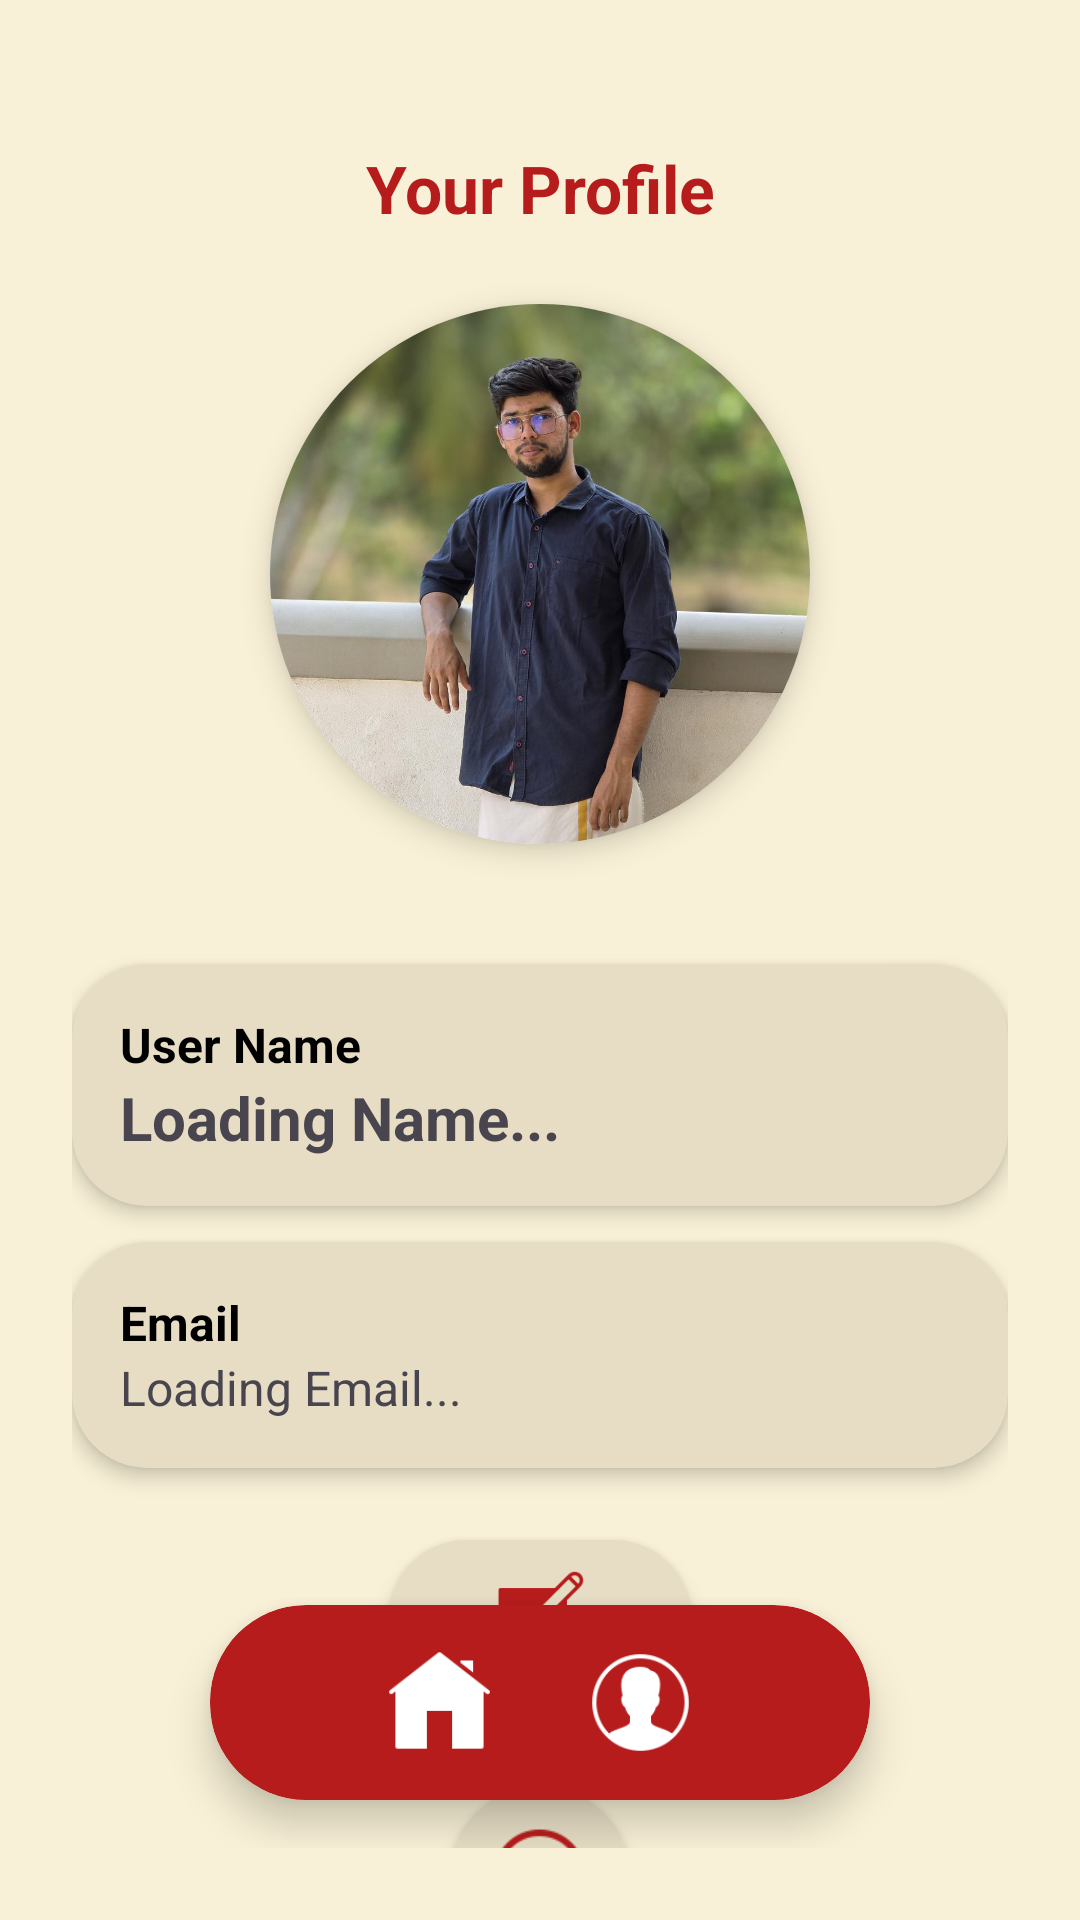

Where to tap for icons on this 1080px×1920px app screen, as point (x, y):
home: point (439, 1700)
user: point (640, 1702)
